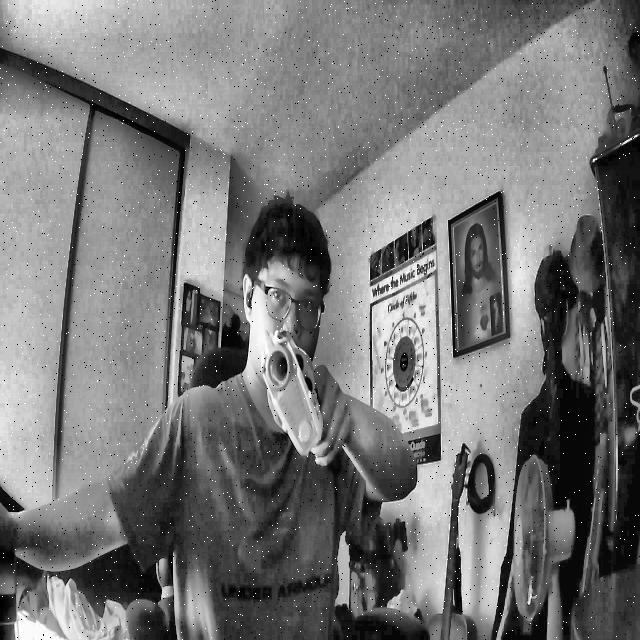Nerf_Blaster: (253, 328, 331, 460)
